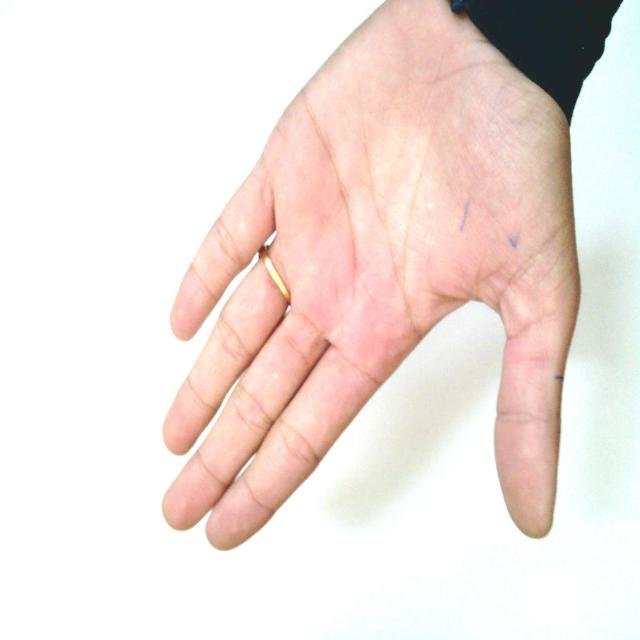others: (108, 0, 630, 558)
